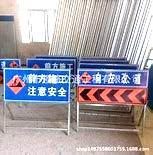sign: (77, 70, 147, 106), (4, 69, 70, 103)
